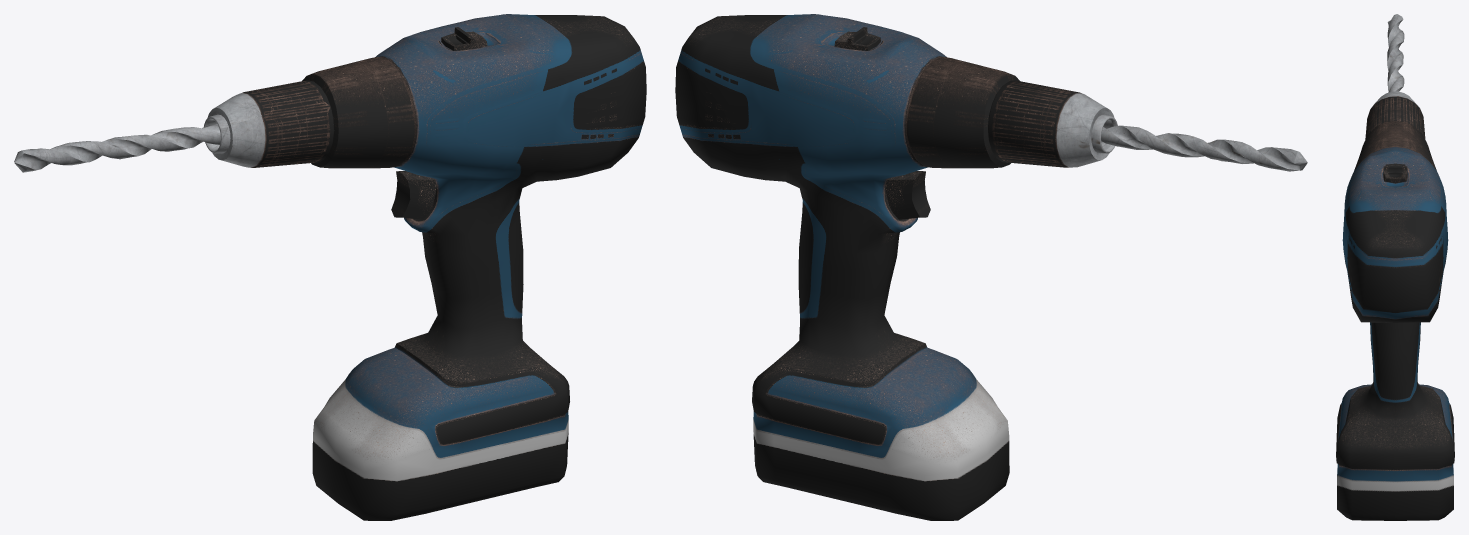
Rendered from SM_Level1_Drill.fbx.
3 renders of one model, left to right at view 1: azimuth 30°, elevation 25°; view 2: azimuth 150°, elevation 25°; view 3: azimuth 270°, elevation 25°, orthographic. The views are drawn at different scales.
Visible parts, largest first — view 1: Drillbody, Drillhead; view 2: Drillbody, Drillhead; view 3: Drillbody, Drillhead.
Boxes of the visible parts, x1,y1,x2,y2 form: Drillbody: (302, 14, 646, 520); Drillhead: (14, 80, 334, 172); Drillbody: (675, 14, 1019, 520); Drillhead: (988, 80, 1307, 171); Drillbody: (1336, 120, 1454, 520); Drillhead: (1365, 14, 1425, 139).
Bounding box in the file's own units: 12.92 × 8.8 × 2.88.
